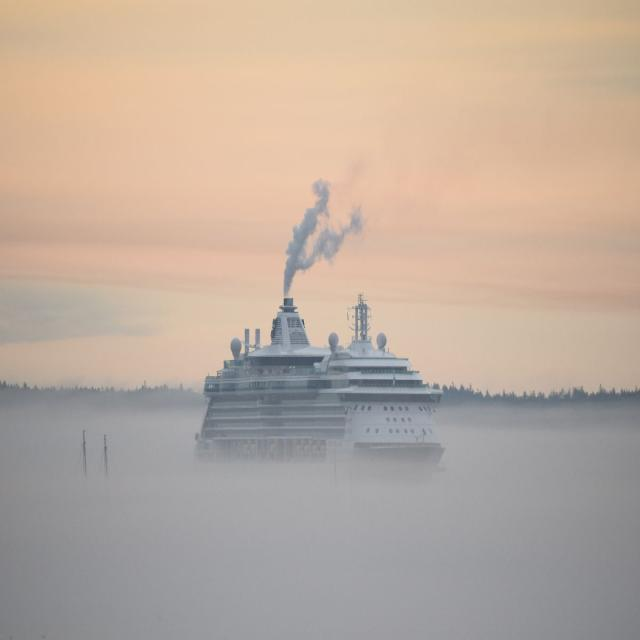passenger ship: (194, 294, 447, 481)
